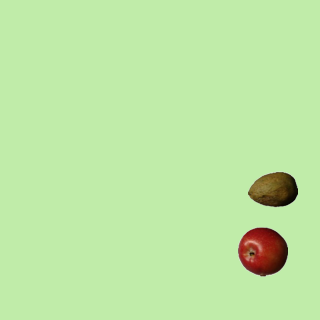Apple Braeburn: (237, 226, 287, 276)
Papaya: (247, 164, 297, 214)
